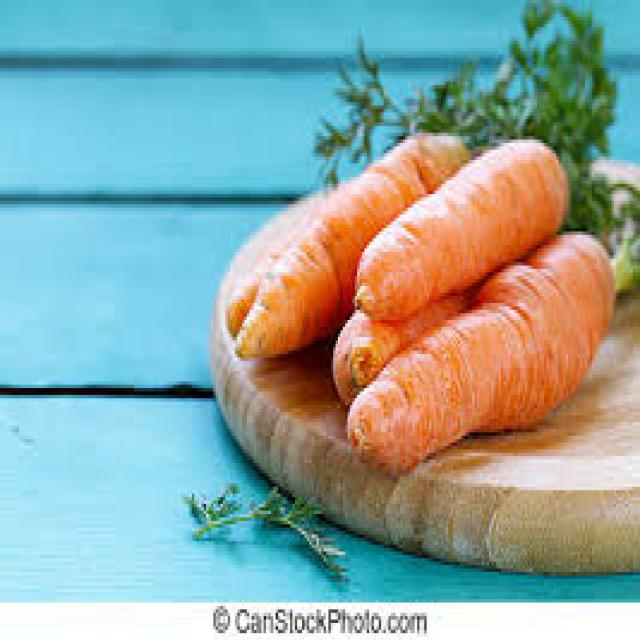Fresh_Carrot: (334, 234, 614, 471), (226, 137, 466, 356), (355, 140, 567, 320), (333, 290, 475, 404)
